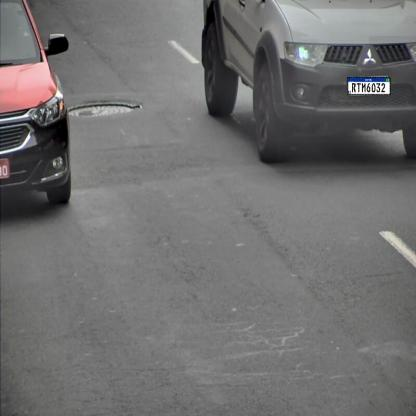PlacaM: (348, 77, 390, 95)
